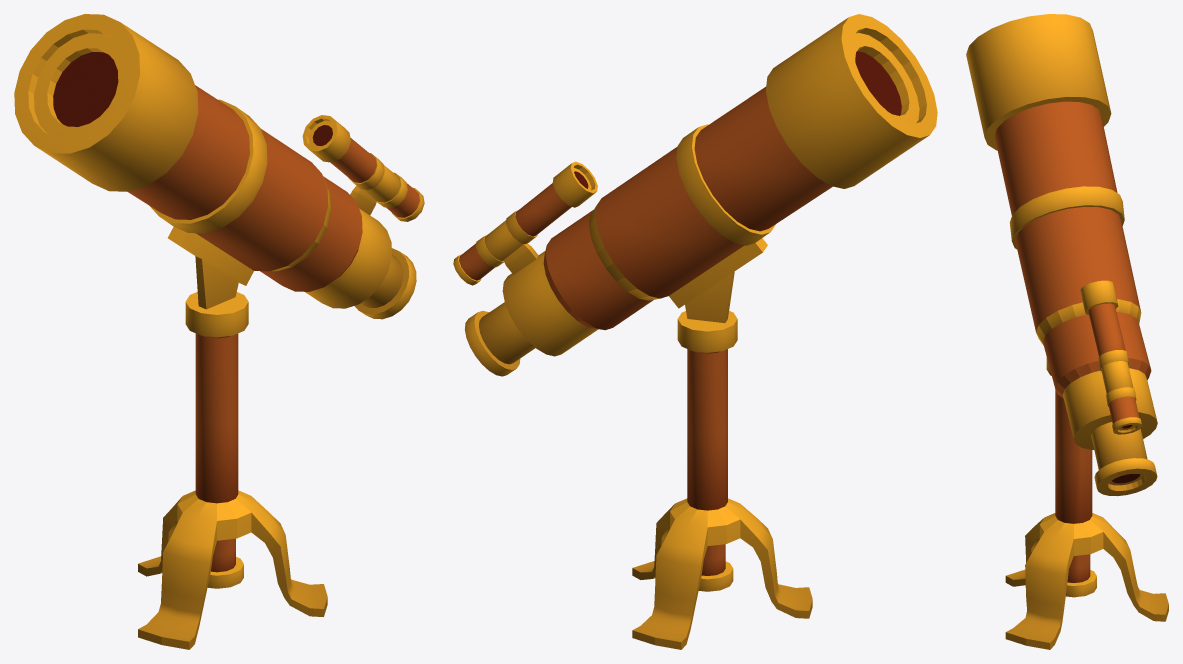
File: Teleskoopppi.fbx
The picture shows the model from 3 angles, left to right: view 1: azimuth 30°, elevation 25°; view 2: azimuth 150°, elevation 25°; view 3: azimuth 270°, elevation 25°; orthographic projection. The views are drawn at different scales.
Parts seen in each view (by area): view 1: TELE2; view 2: TELE2; view 3: TELE2.
Boxes of the visible parts, <box> form: TELE2: <box>14,14,424,649</box>; TELE2: <box>453,14,937,649</box>; TELE2: <box>966,14,1168,649</box>.
Bounding box in the file's own units: 1.2 × 1.63 × 0.553.
